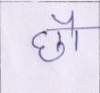au_matra: (60, 12, 89, 51)
